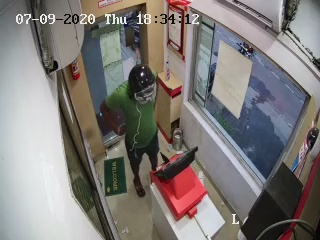helmet: (127, 62, 163, 109)
